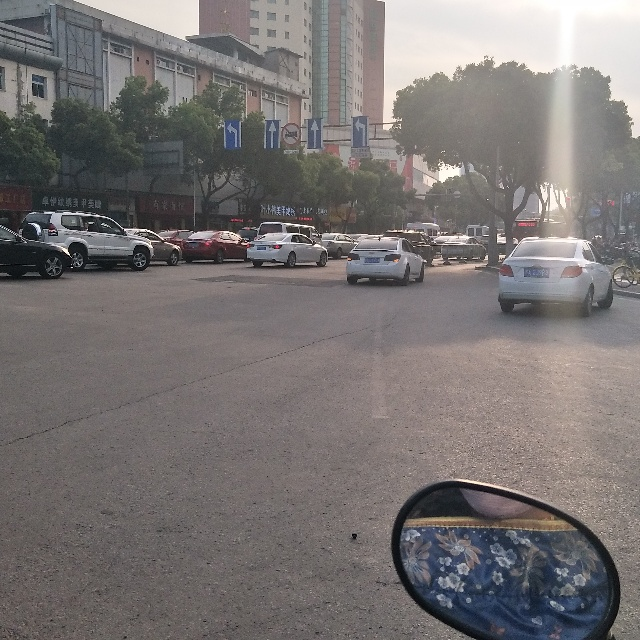left: (224, 120, 240, 148), (352, 117, 366, 145)
straight: (306, 119, 323, 150), (263, 120, 279, 149)
